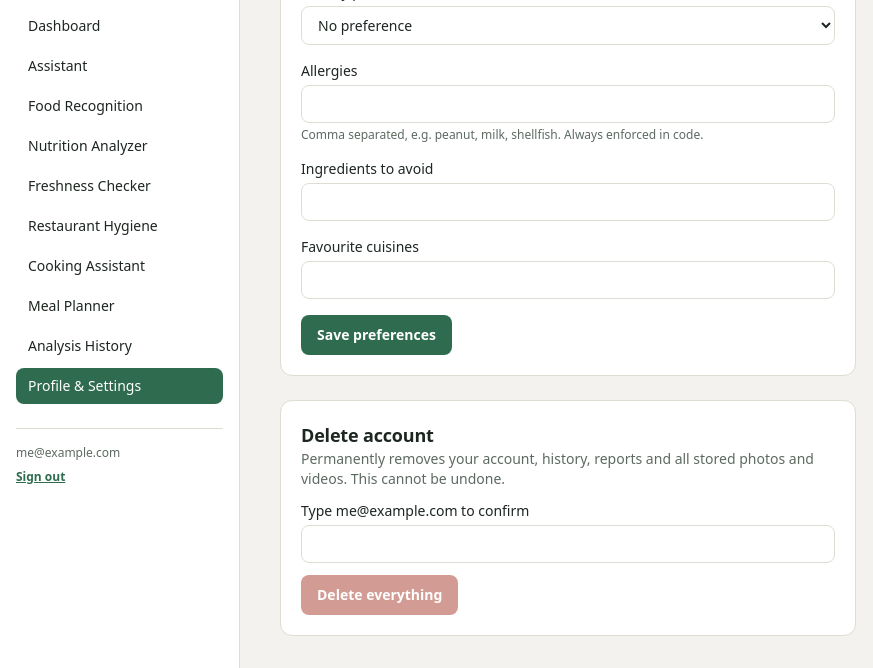
Test case: assistant, history, settings › only enables account deletion after the email is typed
(page scrolled)
Expected: the button "Delete everything" is disabled, [301, 575, 458, 615]
In the field labelled "Type me@example.com to confirm": (568, 544) [301, 525, 835, 563], type "me@example.com"
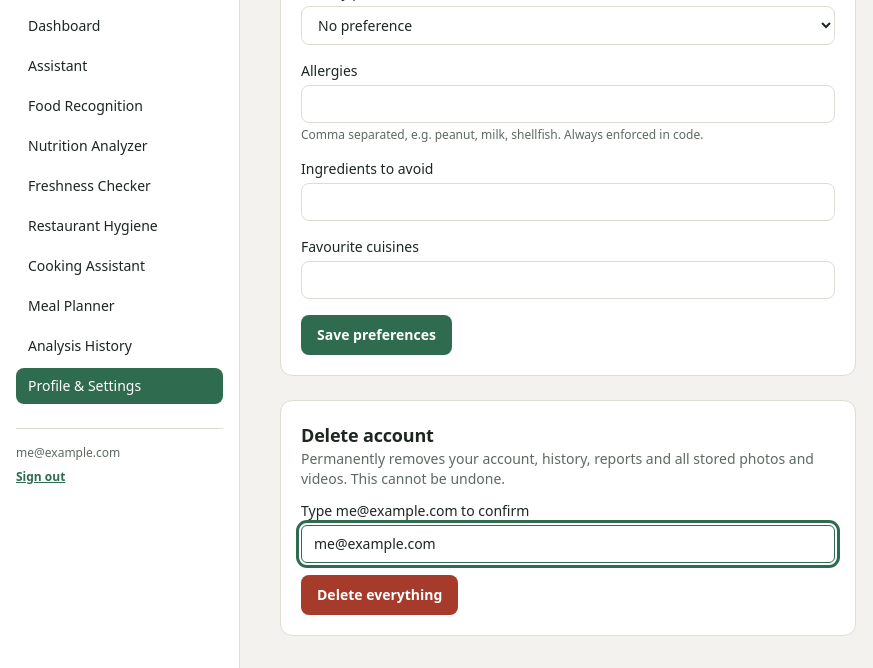
Expected: the button "Delete everything" is enabled, [301, 575, 458, 615]
